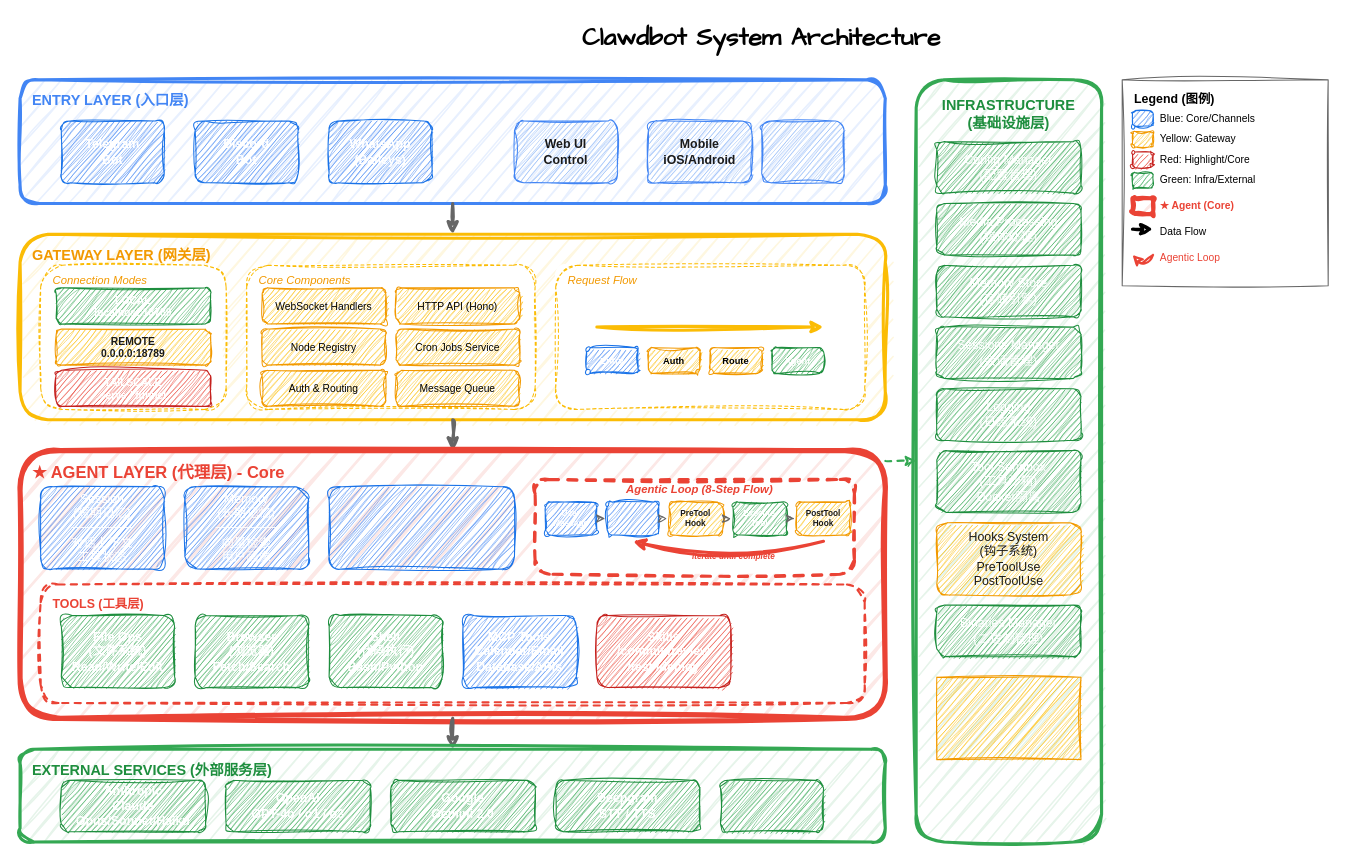
Image size: 1346x861. Some labels were removed from this diagram. Here are the shapes that lost their labels. From the top down, the centre of each, then its label:
[802,151]: CLI Terminal
[421,527]: LLM Orchestration (AI 调度) ───────────── Provider Router Token Management
[632,518]: AI Analyze
[1008,718]: Servant Pattern (单向依赖) ─────────── 所有层可调用 ↑ 但反向不依赖
[771,805]: Other APIs
